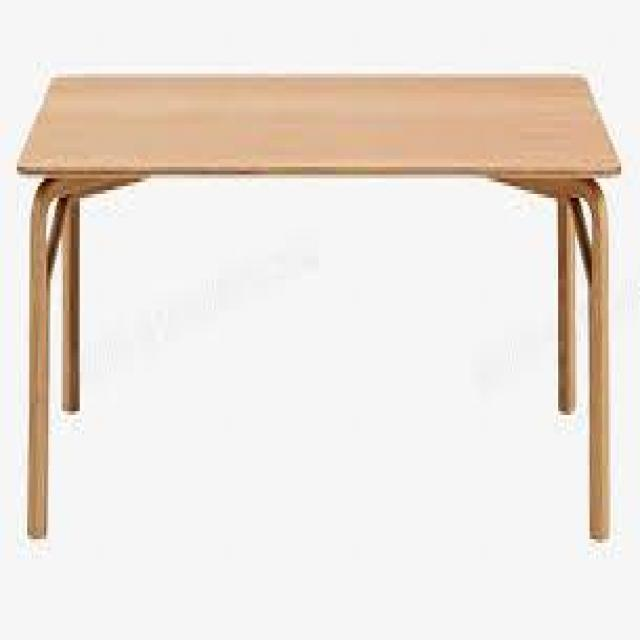table: (12, 38, 622, 590)
